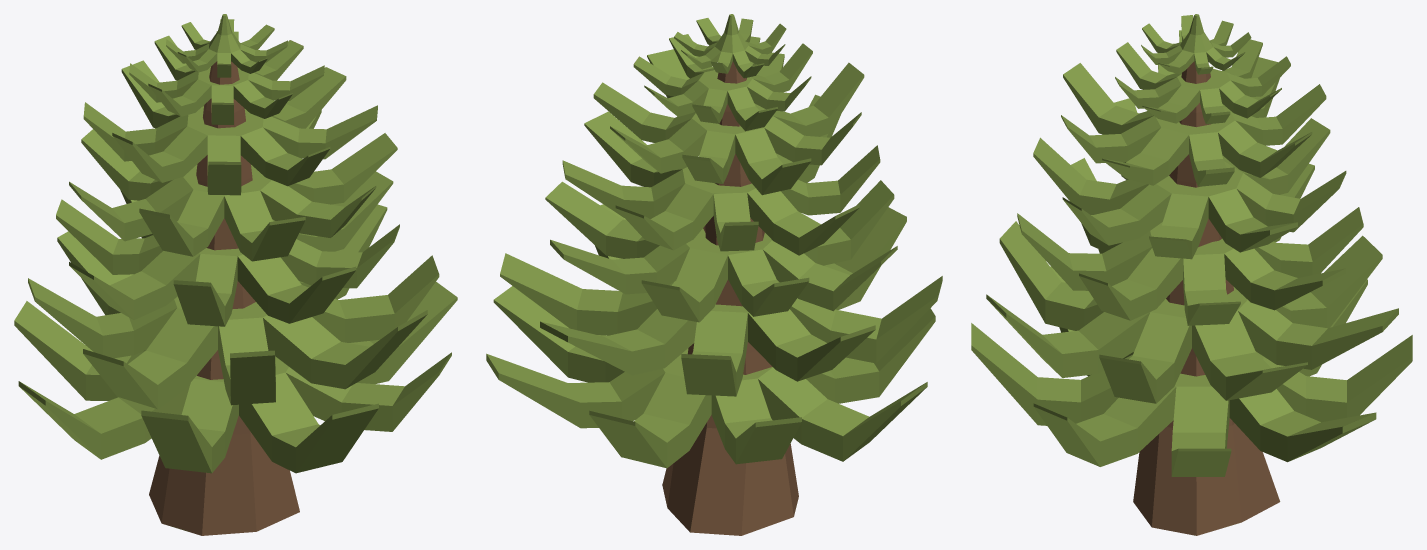
Rendered from Larix.fbx.
The picture shows the model from 3 angles, left to right: view 1: azimuth 30°, elevation 25°; view 2: azimuth 150°, elevation 25°; view 3: azimuth 270°, elevation 25°; orthographic projection.
Visible parts, largest first — view 1: Larixtree; view 2: Larixtree; view 3: Larixtree.
Boxes of the visible parts, <box> form: Larixtree: <box>14,14,457,535</box>; Larixtree: <box>486,14,942,535</box>; Larixtree: <box>971,14,1412,535</box>.
Size of the model in its own units: 416 by 475 by 390.
